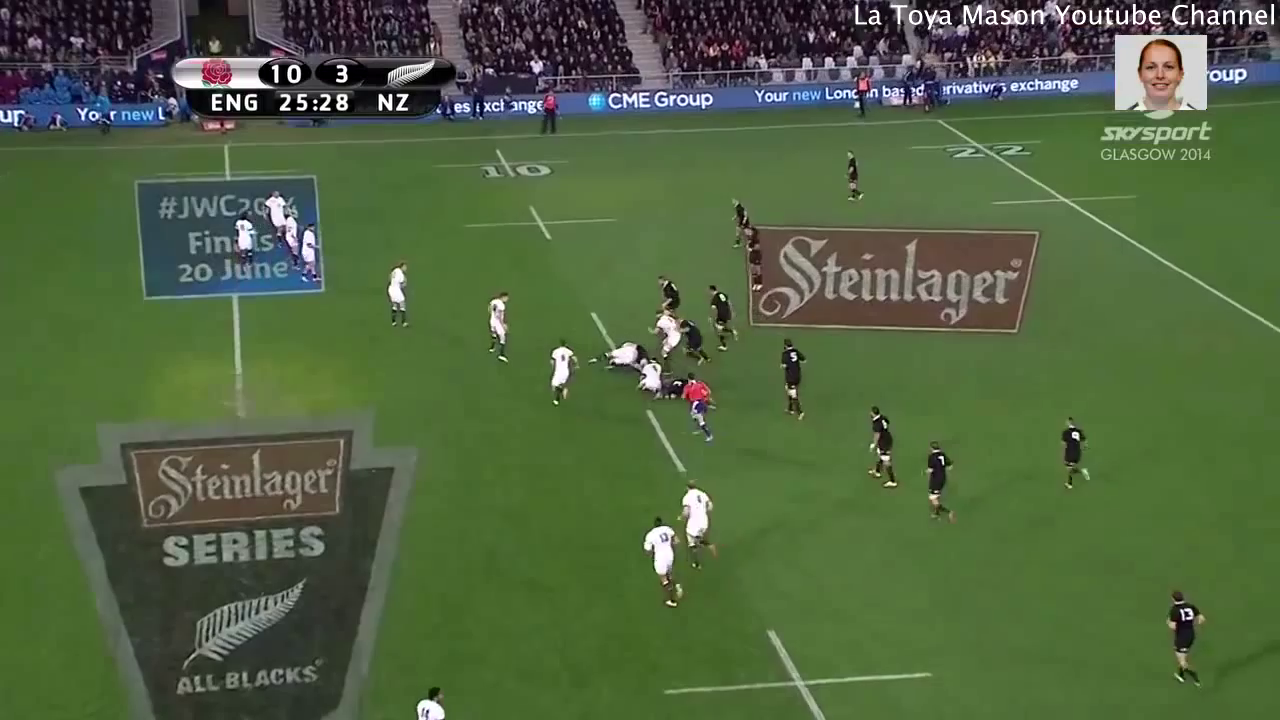10_metre: (656, 619, 946, 720), (457, 196, 640, 257), (421, 143, 576, 181)
player: (635, 509, 690, 618), (1156, 586, 1208, 696), (677, 475, 725, 576), (914, 434, 962, 529), (861, 394, 903, 496), (477, 284, 521, 372), (1050, 409, 1094, 497), (773, 337, 812, 432), (677, 372, 723, 452), (699, 281, 741, 356), (734, 226, 774, 295), (380, 259, 414, 340), (541, 335, 576, 410), (674, 314, 718, 370), (276, 200, 309, 273), (650, 305, 683, 374), (226, 211, 260, 277), (293, 216, 324, 288), (837, 144, 871, 208), (589, 333, 643, 373), (407, 677, 457, 720), (725, 194, 759, 257), (260, 181, 290, 250), (626, 351, 666, 401), (655, 272, 677, 315), (664, 373, 692, 402)
